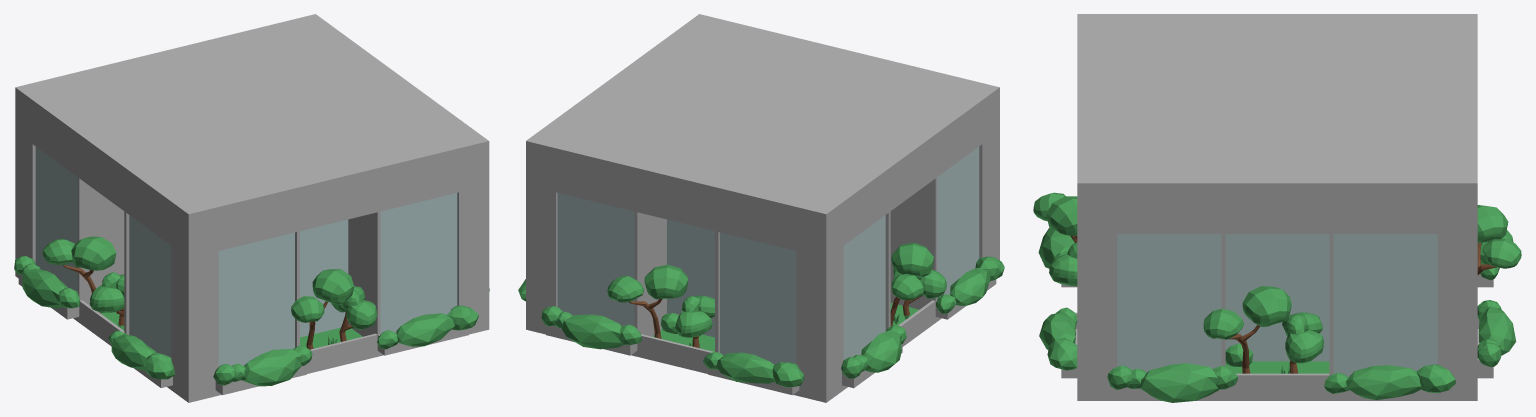
The model's file is MidElement1.fbx.
The picture shows the model from 3 angles, left to right: view 1: azimuth 30°, elevation 25°; view 2: azimuth 150°, elevation 25°; view 3: azimuth 270°, elevation 25°; orthographic projection. The views are drawn at different scales.
Visible parts, largest first — view 1: Cube.060; view 2: Cube.060; view 3: Cube.060.
Part boxes in pixels (box(x1,y1,x2,y2)): Cube.060: box(14, 14, 489, 402); Cube.060: box(518, 14, 1004, 402); Cube.060: box(1033, 14, 1521, 402).
Bounding box in the file's own units: 122 × 60 × 122.
